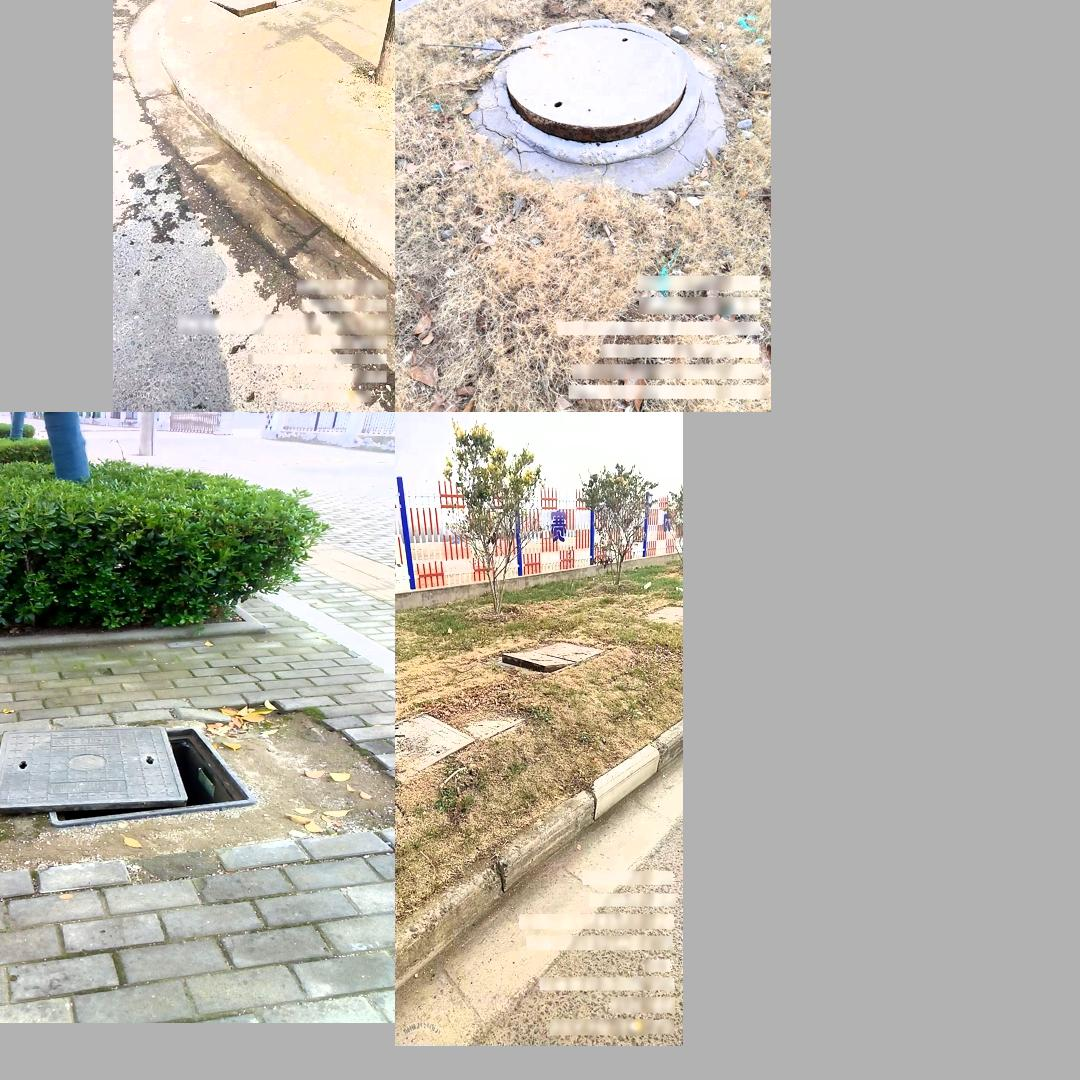good: (395, 703, 526, 784)
uncovered: (495, 20, 700, 167), (0, 722, 255, 825), (493, 645, 607, 673), (207, 0, 313, 18)
